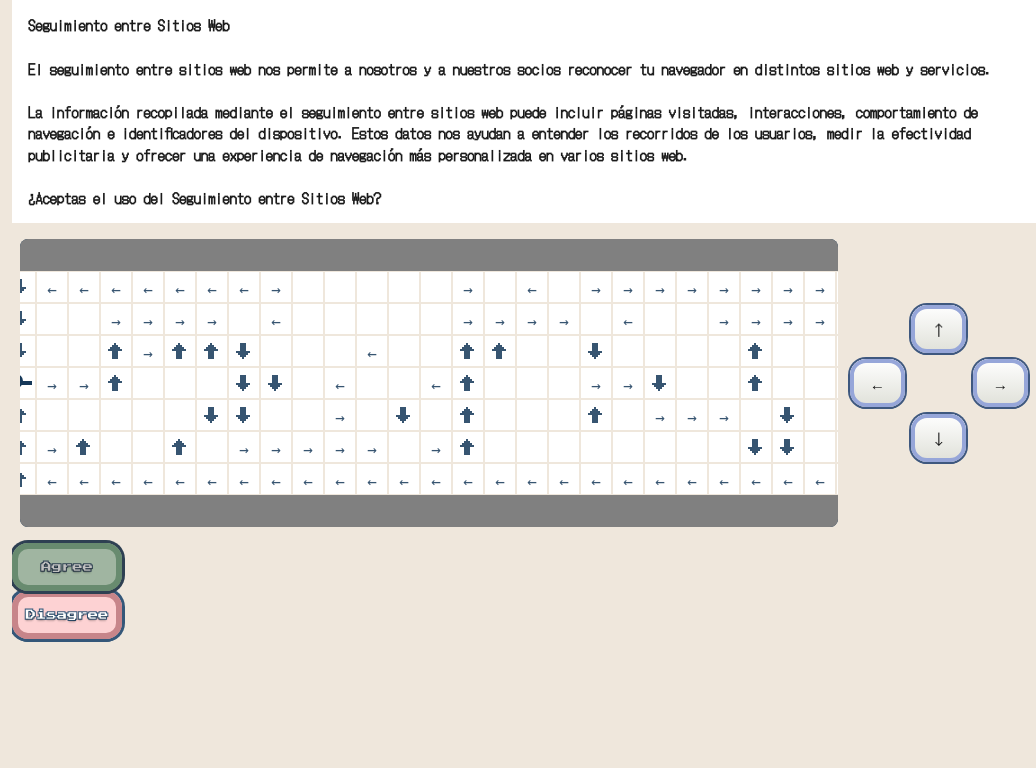
Level06 (GDD Nivel 6 — Cross-Site Tracking, 010-plan.md) › the compact mobile-footer direction copy disappears once the lock opens, leaving only the desktop panel copy
Click the button named "Derecha" at coordinates (1000, 383), box [973,359,1028,407]
Wait 8000 ms
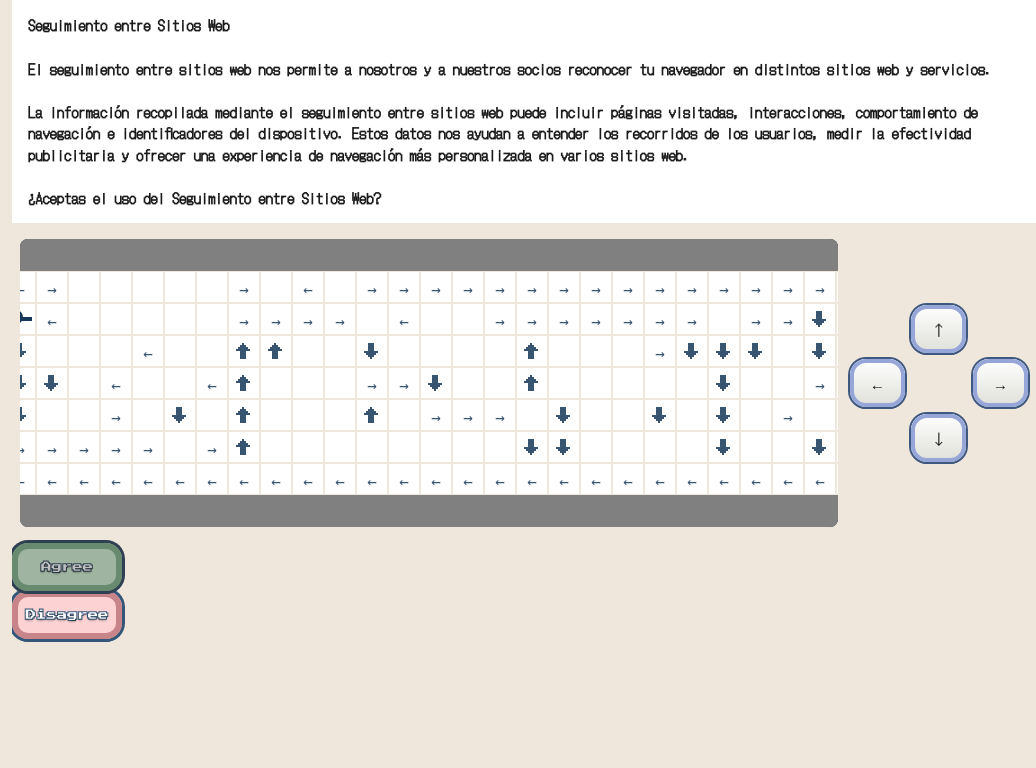
Click the button named "Abajo" at coordinates (939, 438), box [911,414,966,462]
Wait 8000 ms
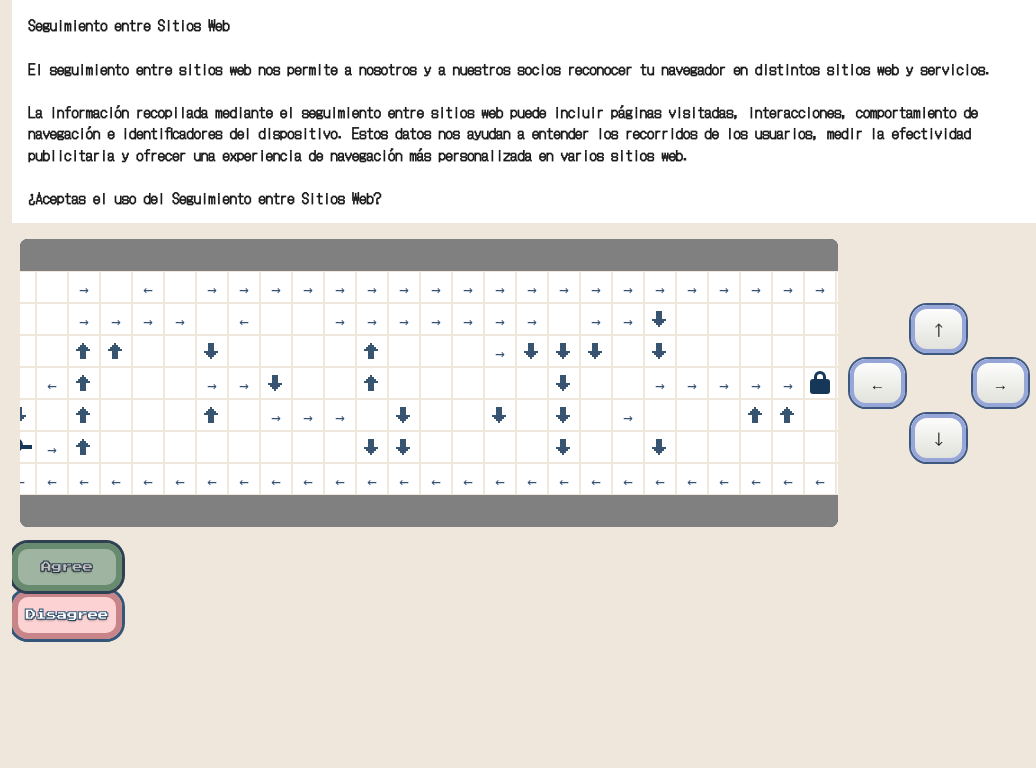
Click the button named "Derecha" at coordinates (1000, 383), box [973,359,1028,407]
Wait 8000 ms
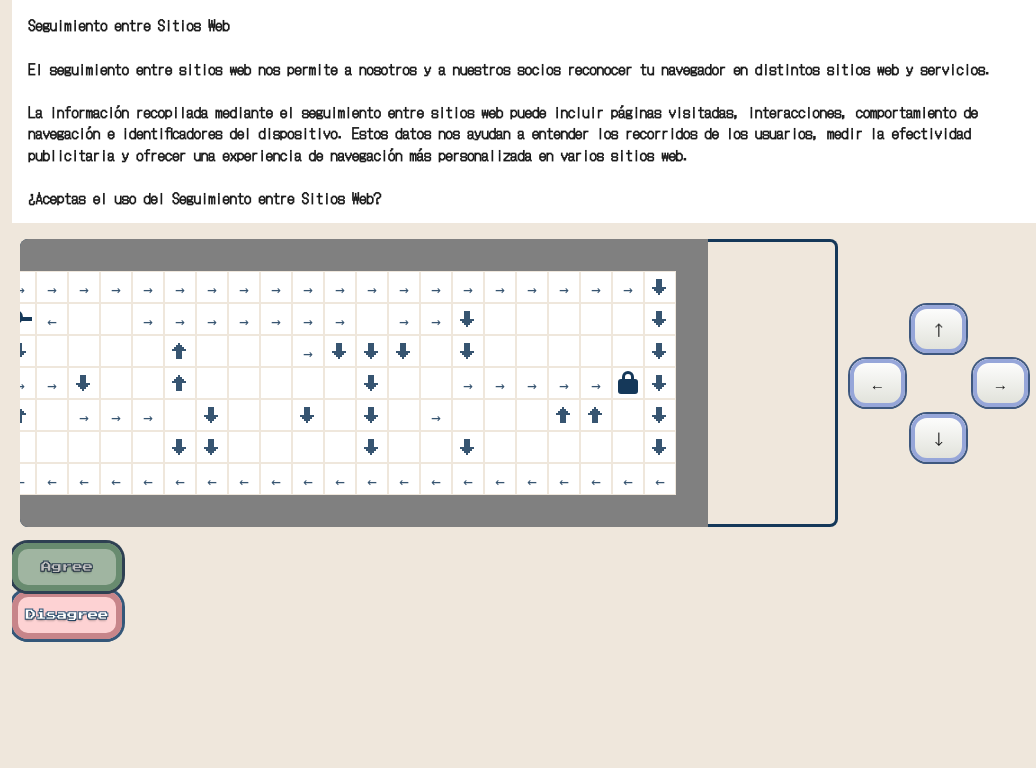
Click the button named "Abajo" at coordinates (939, 438), box [911,414,966,462]
Wait 8000 ms
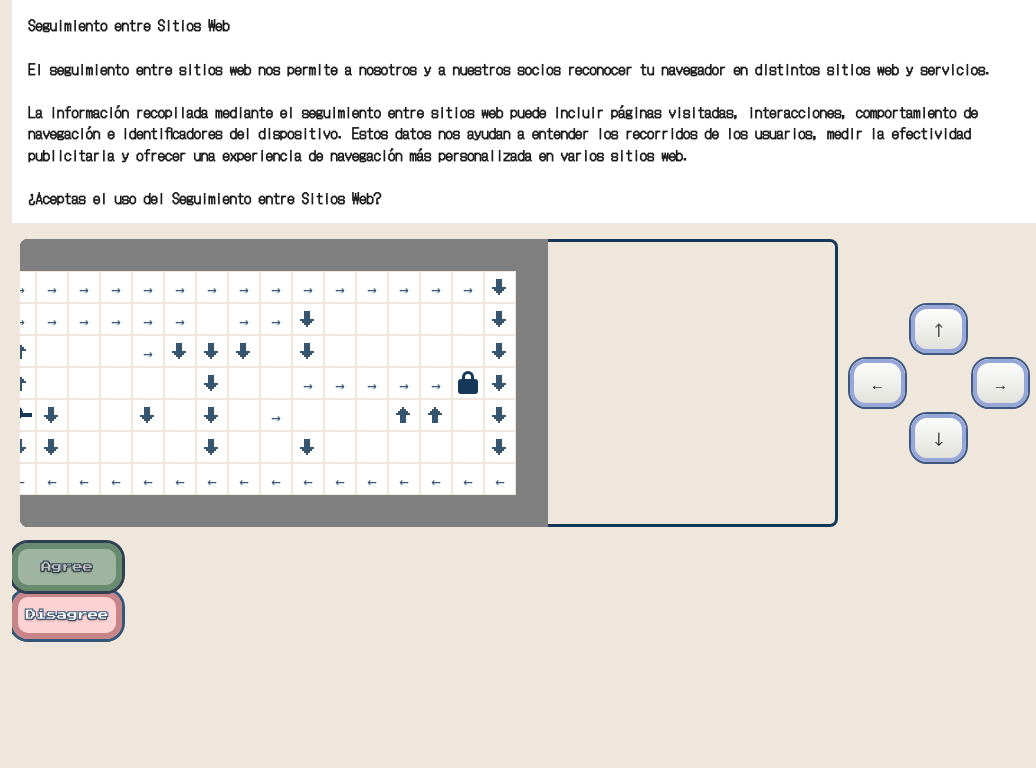
Click the button named "Arriba" at coordinates (939, 329), box [911,305,966,353]
Wait 8000 ms
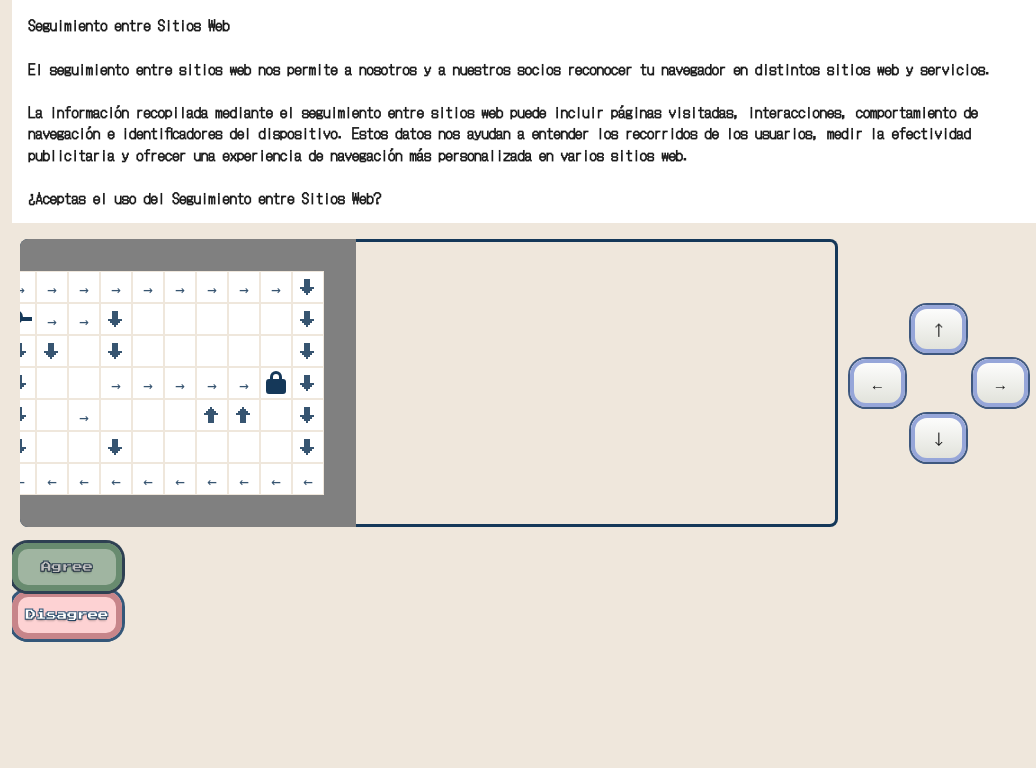
Click the button named "Derecha" at coordinates (1000, 383), box [973,359,1028,407]
Wait 8000 ms
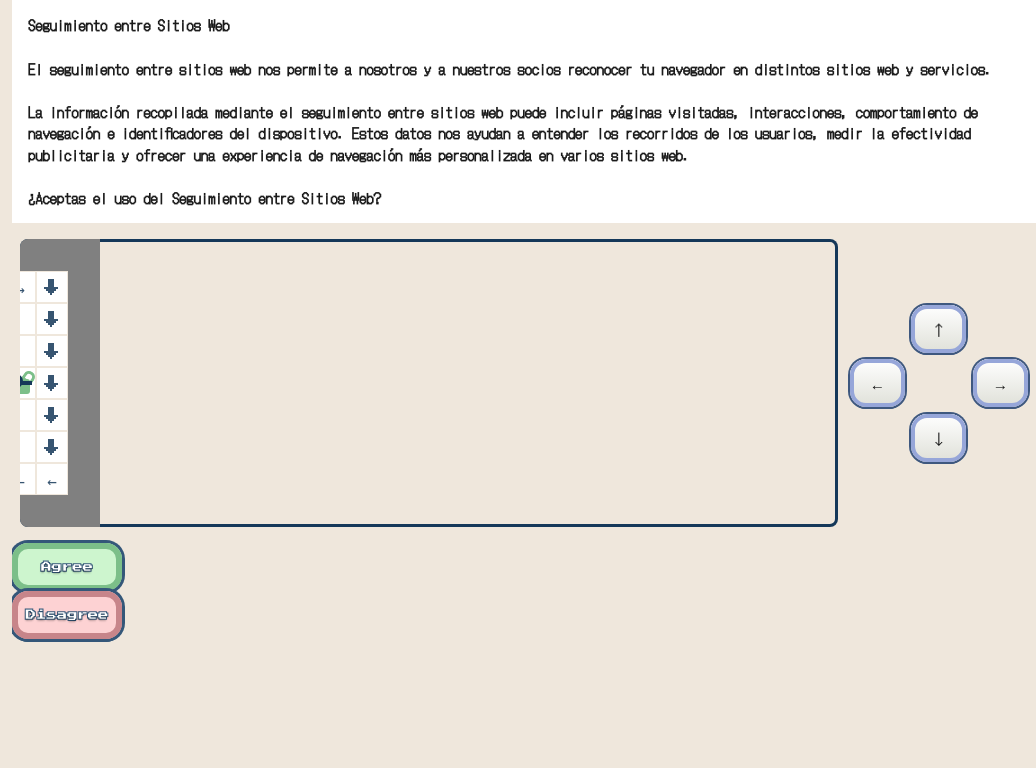
Expected: the number of buttons named "Derecha" is 1, [973,359,1028,407]
Expected: the button "Agree" is enabled, [12,543,122,591]
